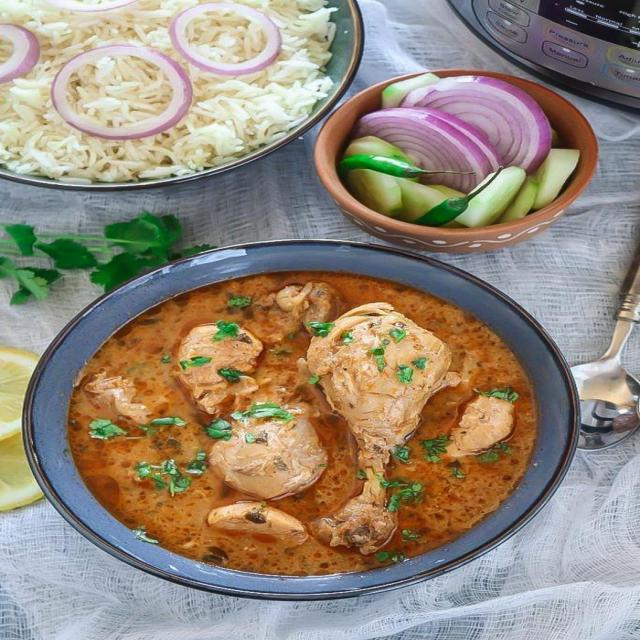chicken: (64, 258, 564, 586)
rice: (0, 0, 316, 192)
